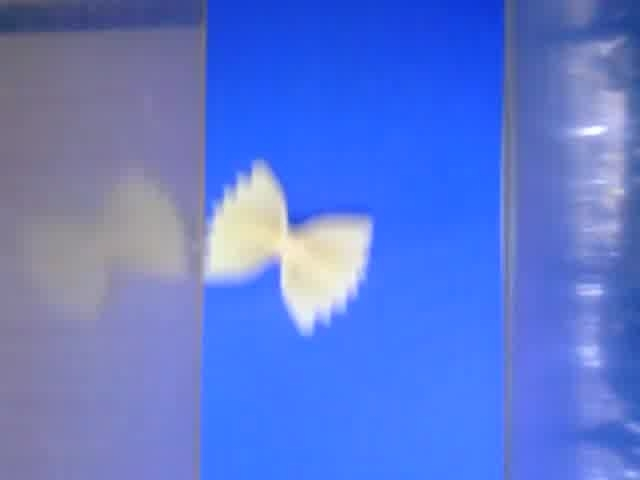farfalle: (199, 159, 374, 333)
